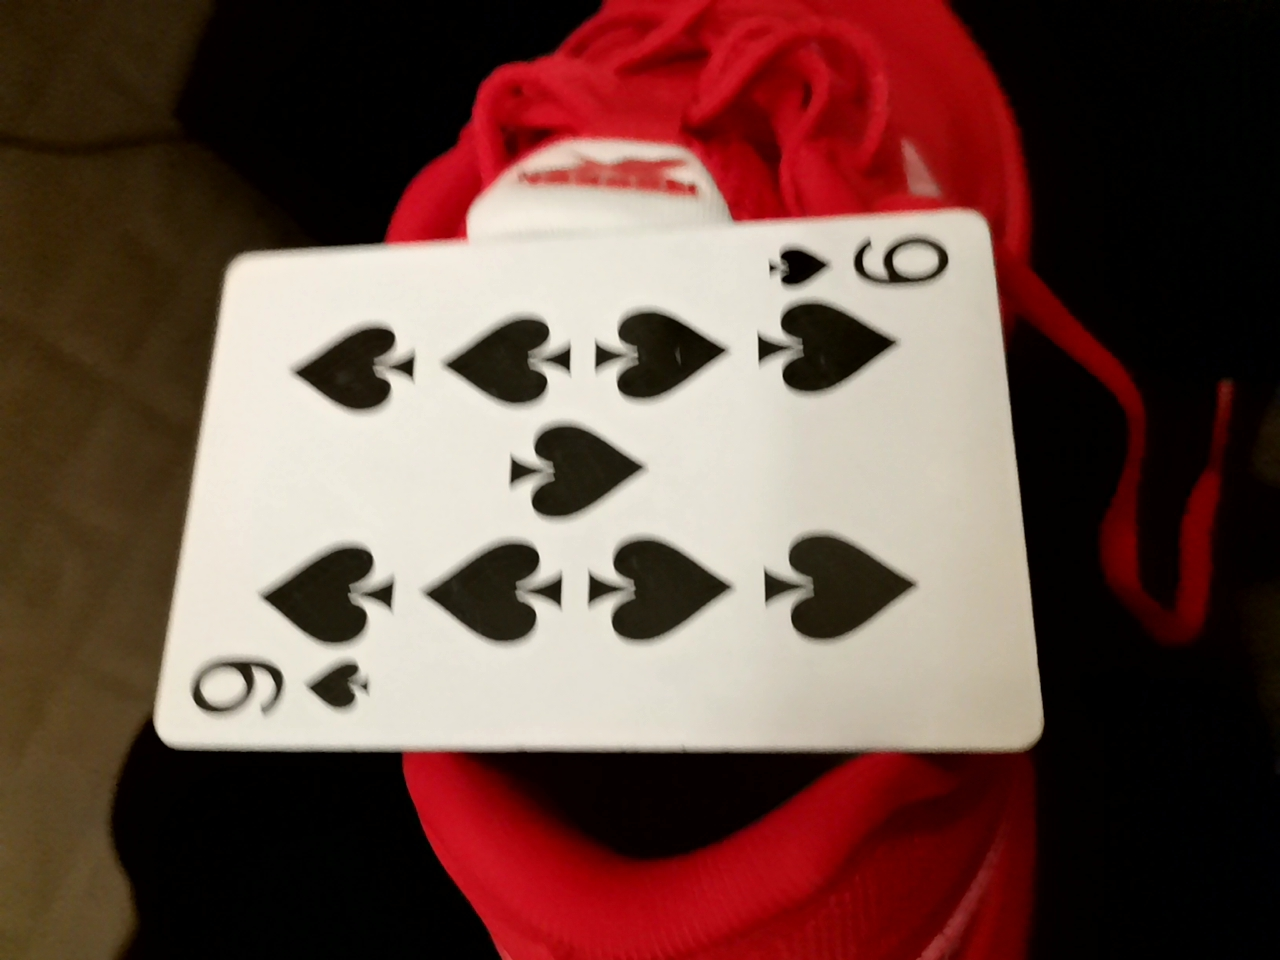ht 9: (197, 260, 1064, 818)
